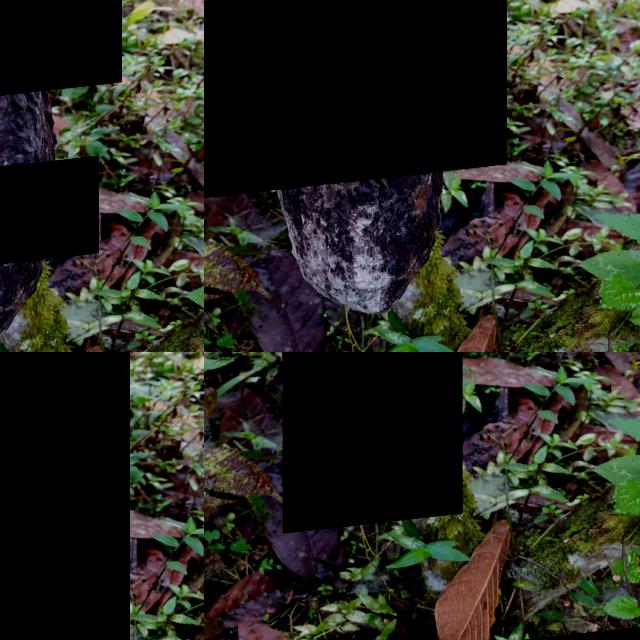Fitoftora: (0, 352, 129, 640), (282, 352, 462, 539), (0, 0, 121, 123), (0, 166, 98, 291)
Monilia: (204, 0, 507, 218)
